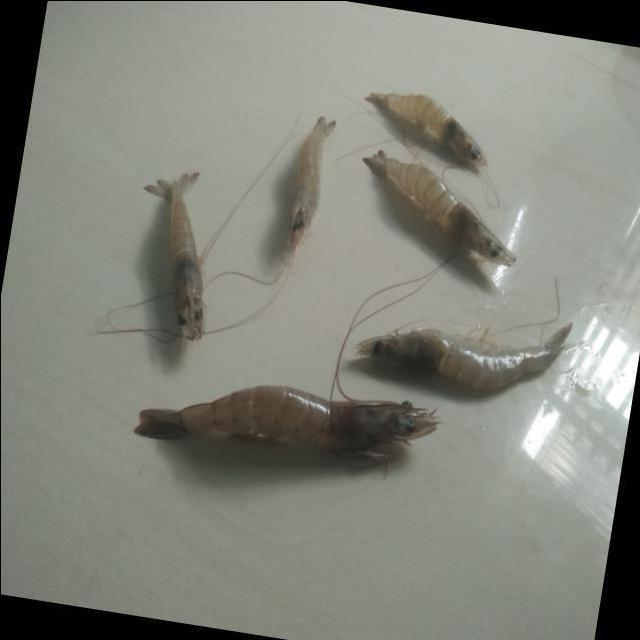shrimp: (133, 385, 438, 460), (364, 148, 516, 264), (356, 322, 572, 389), (144, 170, 205, 339), (366, 91, 487, 164), (289, 115, 335, 251)
